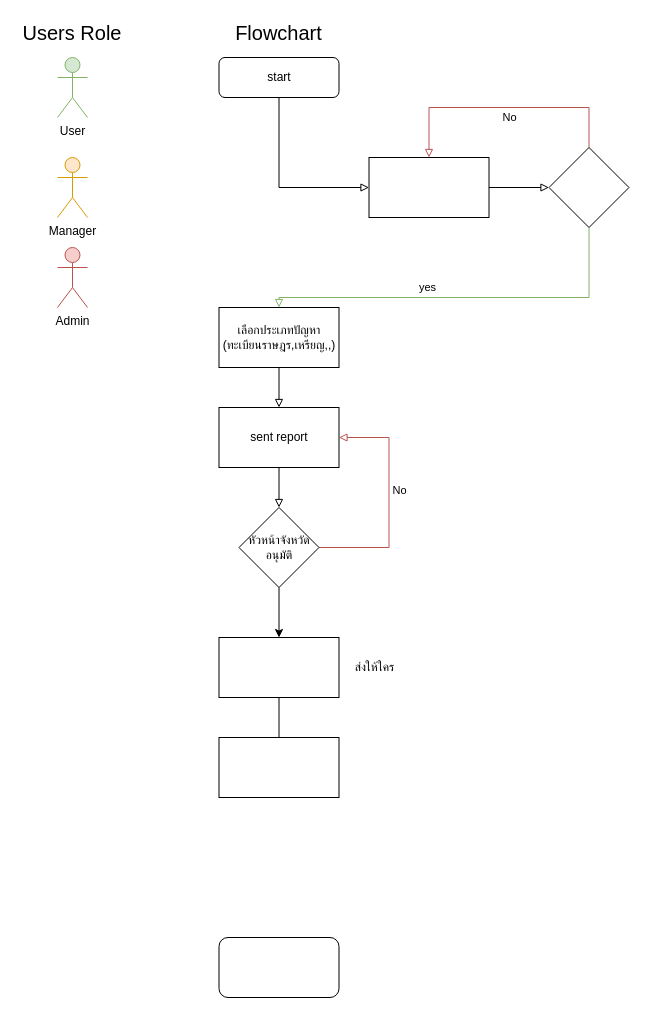
Some shapes in this 646 by 1015 pixel diagram are drawn without their labels. The centre of each missing label's shape, as x and y in pixels:
End: (x=278, y=967)
it center: (x=278, y=667)
OTP login: (x=428, y=187)
succeed: (x=588, y=187)
